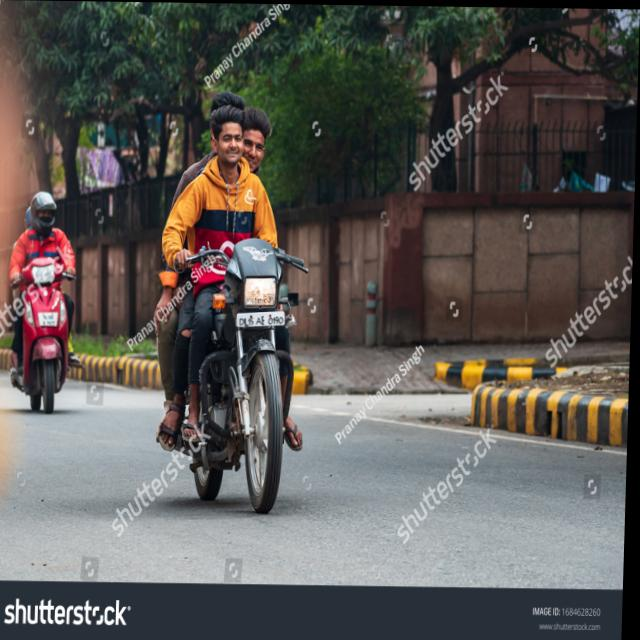without helmet: (201, 81, 277, 193)
